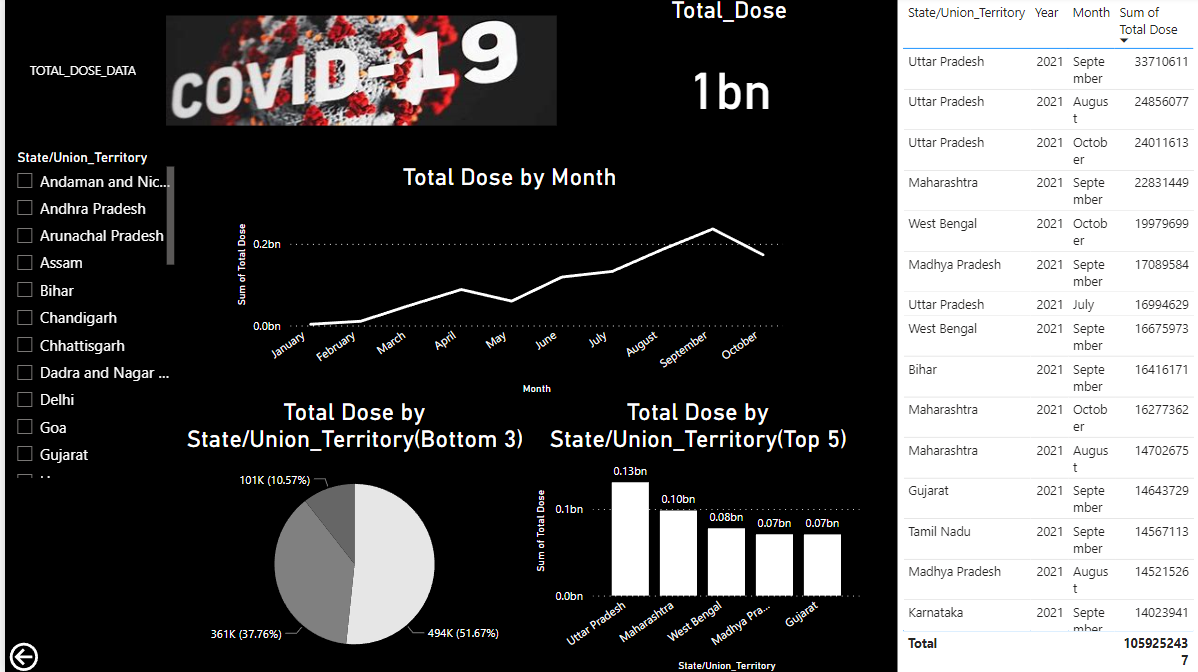

The page's visual inventory and layout, read from the dashboard file:
{"tool":"powerbi","page":{"name":"Total_dose","canvas":[1280,720],"ordinal":3},"visuals":[{"type":"columnChart","title":"Total Dose by State/Union_Territory(Top 5)","fields":{"Category":["cowin_vaccine_data_statewise.State/Union_Territory"],"Y":["Sum(cowin_vaccine_data_statewise.Total Dose)"]},"box":[556.3,426,356,294],"z":0},{"type":"card","title":"Total_Dose","fields":{"Values":["Sum(cowin_vaccine_data_statewise.Total Dose)"]},"box":[589.7,0,356,157.4],"z":1000},{"type":"tableEx","fields":{"Values":["cowin_vaccine_data_statewise.State/Union_Territory","cowin_vaccine_data_statewise.Date.Variation.Date Hierarchy.Year","cowin_vaccine_data_statewise.Date.Variation.Date Hierarchy.Month","Sum(cowin_vaccine_data_statewise.Total Dose)"]},"box":[945.7,0,333.8,720],"z":2000},{"type":"lineChart","title":"Total Dose by Month","fields":{"Category":["cowin_vaccine_data_statewise.Date.Variation.Date Hierarchy.Month"],"Y":["Sum(cowin_vaccine_data_statewise.Total Dose)"]},"box":[240,176.4,589.7,249.5],"z":3000},{"type":"pieChart","title":" Total Dose by State/Union_Territory(Bottom 3)","fields":{"Category":["cowin_vaccine_data_statewise.State/Union_Territory"],"Y":["Sum(cowin_vaccine_data_statewise.Total Dose)"]},"box":[184.4,426,371.9,294],"z":4000},{"type":"slicer","fields":{"Values":["cowin_vaccine_data_statewise.State/Union_Territory"]},"box":[0,157.4,184.4,357.6],"z":5000},{"type":"image","box":[165.3,0,424.4,157.4],"z":6000},{"type":"shape","box":[0,0,165,157],"z":7000},{"type":"actionButton","box":[0,680,100,40],"z":8000}]}

Visuals, with their boxes in screenshot pixels (x1, y1, x2, y2), scaled from the page's 1280x720 canvas onto the 1198x672 screenshot:
"Total Dose by State/Union_Territory(Top 5)" columnChart: bbox=[521, 398, 854, 671]
"Total_Dose" card: bbox=[552, 0, 885, 147]
tableEx - cowin_vaccine_data_statewise.State/Union_Territory x cowin_vaccine_data_statewise.Date.Variation.Date Hierarchy.Year: bbox=[885, 0, 1197, 671]
"Total Dose by Month" lineChart: bbox=[225, 165, 777, 398]
" Total Dose by State/Union_Territory(Bottom 3)" pieChart: bbox=[173, 398, 521, 671]
slicer - cowin_vaccine_data_statewise.State/Union_Territory: bbox=[0, 147, 173, 481]
image: bbox=[155, 0, 552, 147]
shape: bbox=[0, 0, 154, 147]
actionButton: bbox=[0, 635, 94, 671]
